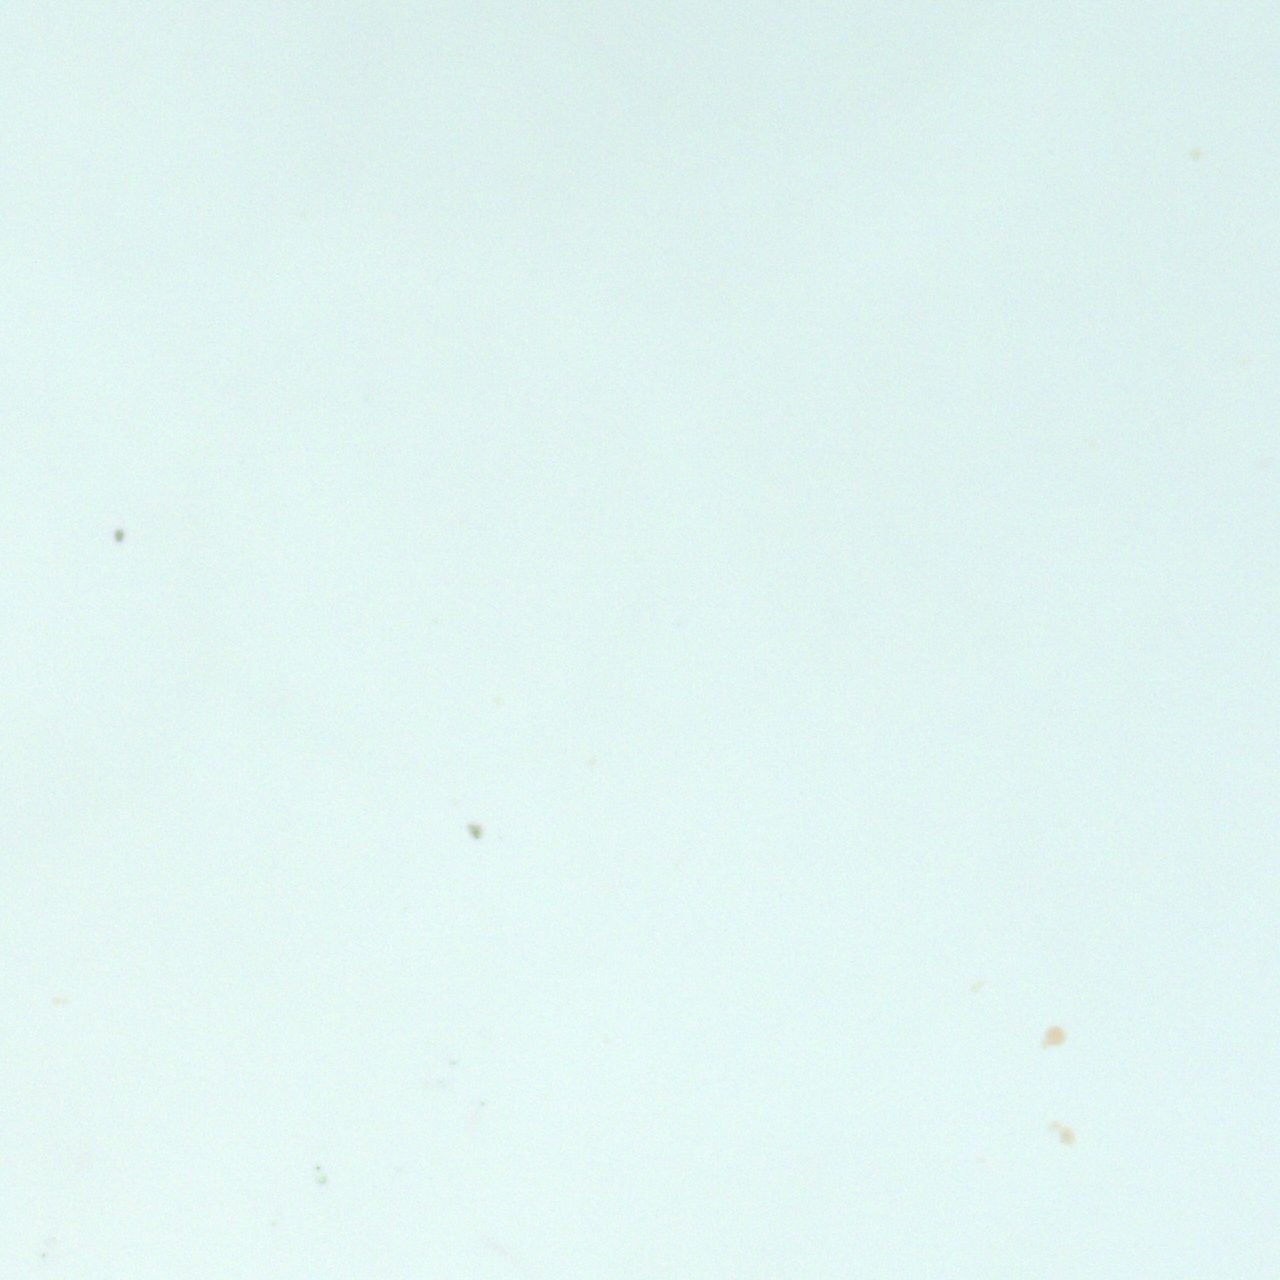dust: (1046, 1026, 1064, 1046), (1060, 1126, 1075, 1146), (1189, 147, 1205, 161), (467, 824, 479, 840), (114, 529, 124, 543)
